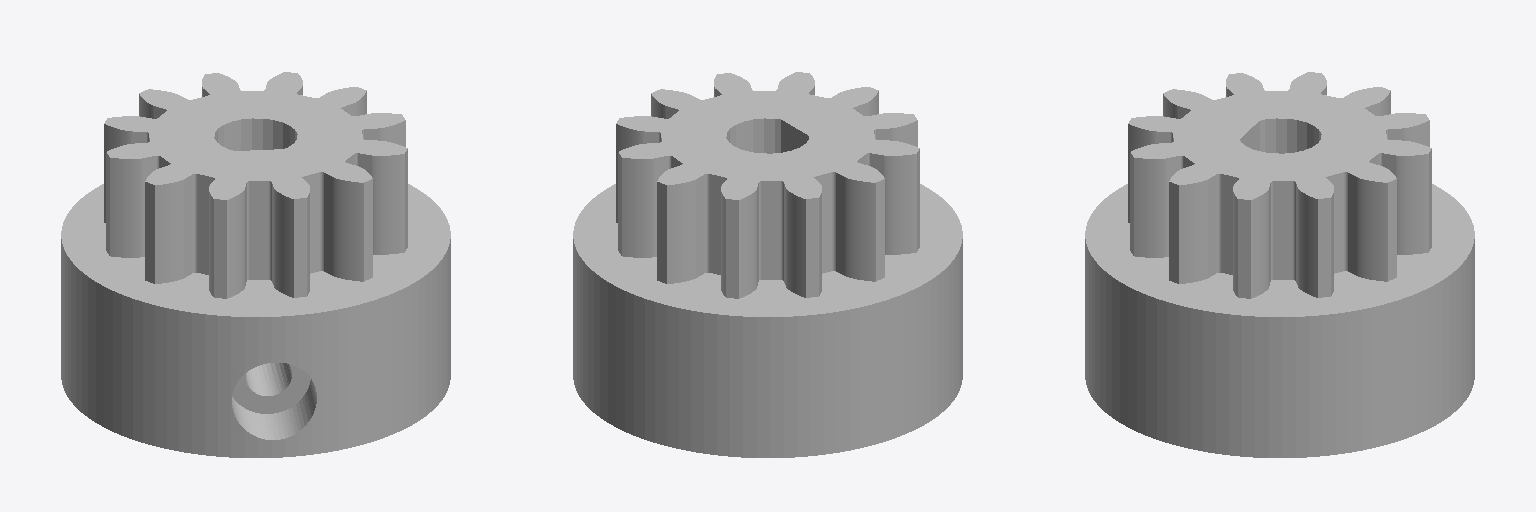
Rendered from small_gear_2x.obj.
The picture shows the model from 3 angles: view 1: azimuth 30°, elevation 25°; view 2: azimuth 150°, elevation 25°; view 3: azimuth 270°, elevation 25°; orthographic projection.
Visible parts, largest first — view 1: small_gear_2x; view 2: small_gear_2x; view 3: small_gear_2x.
Part boxes in pixels (x1,y1,x2,y2): small_gear_2x: (61, 72, 450, 457); small_gear_2x: (573, 72, 962, 457); small_gear_2x: (1085, 72, 1474, 457).
Bounding box in the file's own units: 25 × 16.99 × 24.99.